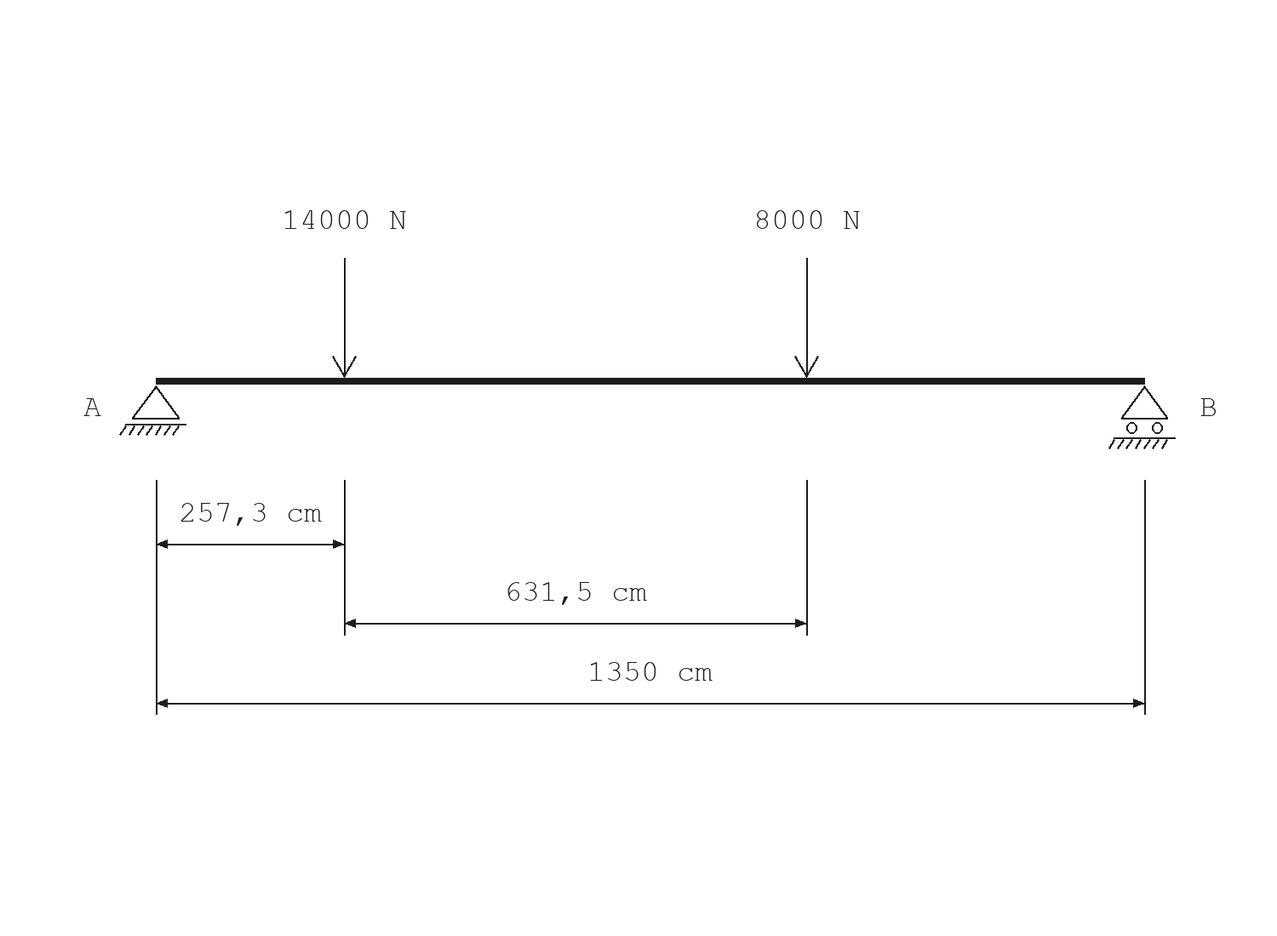pin_support: (119, 385, 186, 436)
point_load: (332, 258, 357, 378), (794, 258, 819, 378)
roller_support: (1108, 385, 1176, 449)
